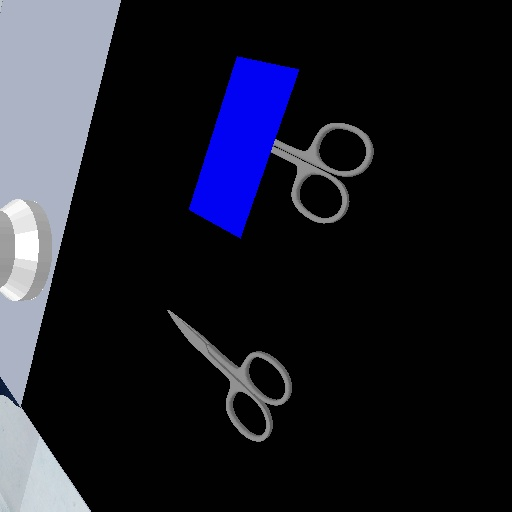tijera: (159, 304, 298, 445), (268, 117, 377, 226)
